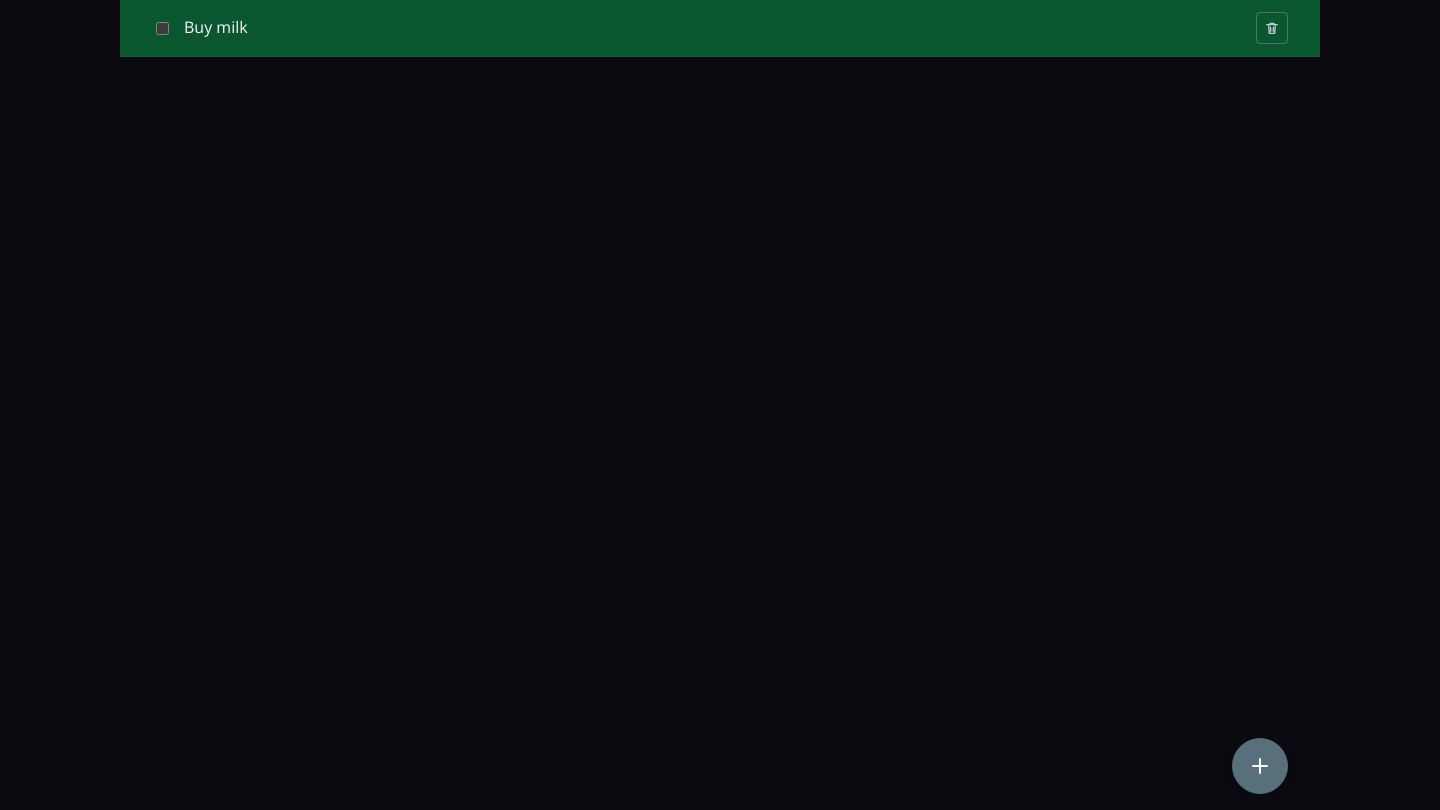
Test: deleting from the list › asks before deleting, naming the task
The image size is (1440, 810).
Click the button named "Delete Buy milk": point(1272, 28) [1256,12,1288,44]
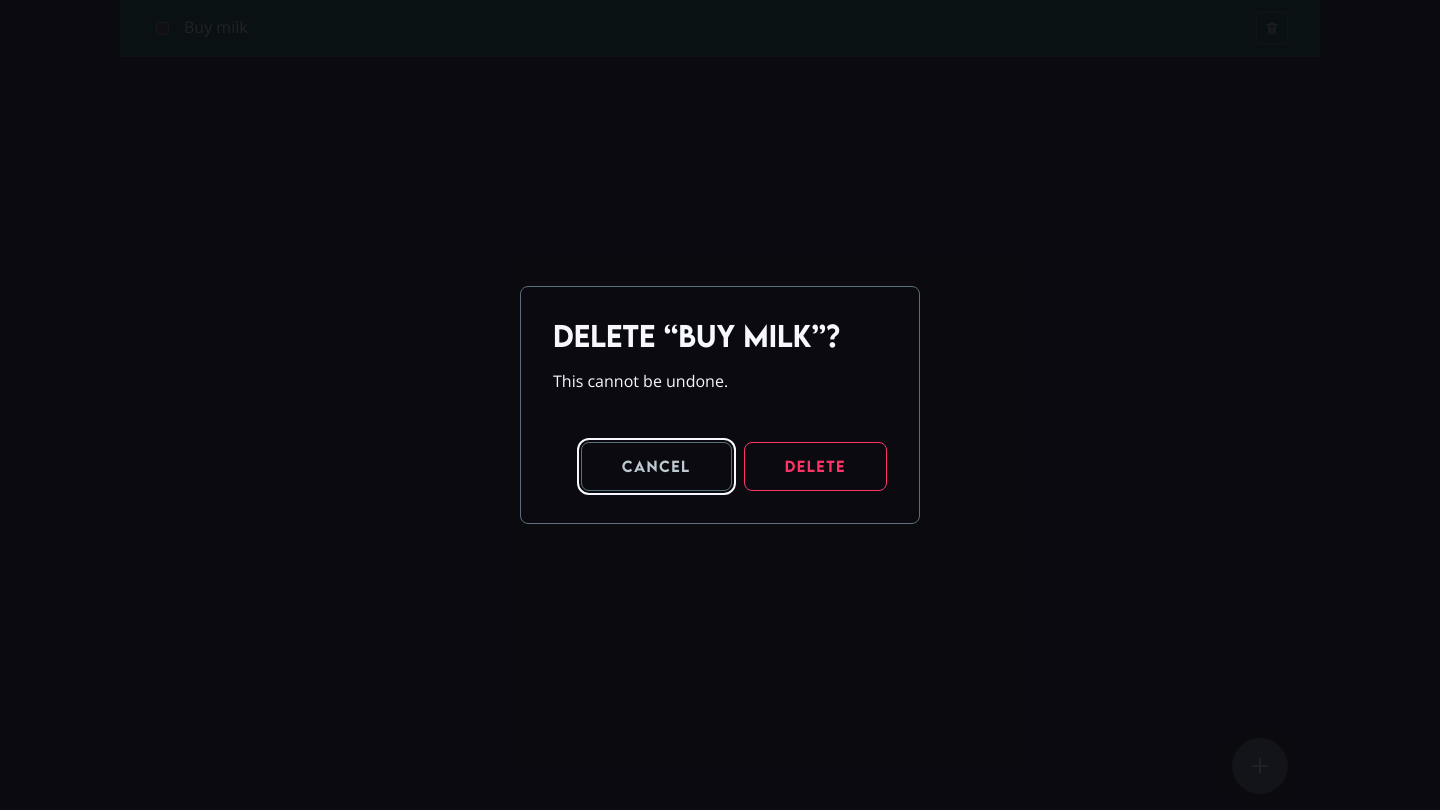
Check: the element with class "modal" is shown
Check: the element with class "modal" shows "Buy milk", box [553,317,840,354]
